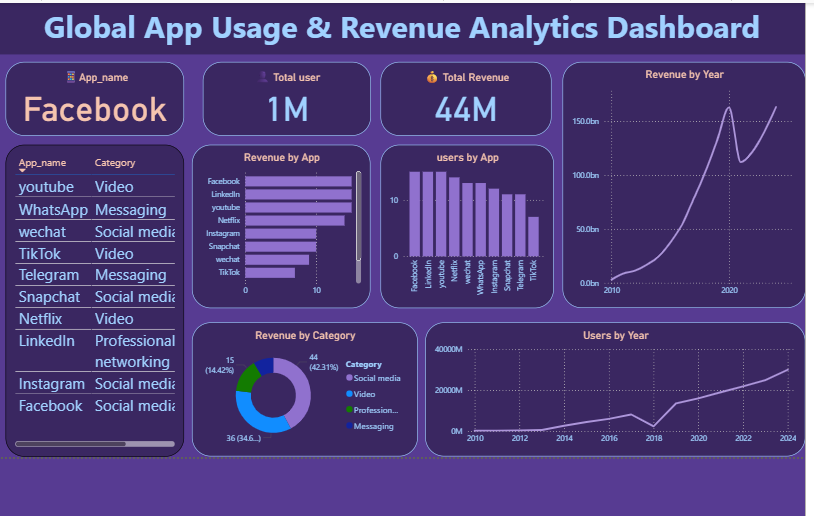

Layout of this report page (visuals, bound fields, positions):
{"tool":"powerbi","page":{"name":"App dashborad","canvas":[1280,720],"ordinal":0},"visuals":[{"type":"textbox","box":[0,0,1280,82],"z":0},{"type":"clusteredBarChart","title":"Revenue by App","fields":{"Category":["Sheet1.App_name"],"Y":["CountNonNull(Sheet1.Revenue)"]},"box":[306.3,225,283.8,259.6],"z":1000},{"type":"columnChart","title":"users by App","fields":{"Category":["Sheet1.App_name"],"Y":["CountNonNull(Sheet1.users)"]},"box":[605.8,225,275.2,259.6],"z":2000},{"type":"donutChart","title":"Revenue by Category","fields":{"Category":["Sheet1.Category"],"Y":["CountNonNull(Sheet1.Revenue)"]},"box":[306.3,507.1,358.3,212.9],"z":3000},{"type":"lineChart","title":"Users by Year","fields":{"Category":["Sheet1.Year"],"Y":["Sum(Sheet1.users)"]},"box":[676.7,507.1,604,212.9],"z":4000},{"type":"lineChart","title":"Revenue by Year","fields":{"Category":["Sheet1.Year"],"Y":["Sum(Sheet1.Revenue)"]},"box":[894.8,93.5,385.9,391.1],"z":5000},{"type":"card","title":"📱App_name","fields":{"Values":["Min(Sheet1.App_name)"]},"box":[10.4,93.5,283.8,117.7],"z":6000},{"type":"card","title":"👤 Total user ","fields":{"Values":["Min(Sheet1.users)"]},"box":[323.6,93.5,266.5,117.7],"z":7000},{"type":"card","title":"💰 Total Revenue ","fields":{"Values":["Min(Sheet1.Revenue)"]},"box":[605.8,93.5,271.7,117.7],"z":8000},{"type":"tableEx","fields":{"Values":["Sheet1.App_name","Sheet1.Category"]},"box":[10.4,225,283.8,495],"z":9000}]}

Visuals, with their boxes on the page's 1280x720 design canvas (x1, y1, x2, y2). These are canvas units, not pixel positions in the 814x516 screenshot, which may show the page scaled, cropped or inside an application window:
textbox: box(0, 0, 1280, 82)
"Revenue by App" clusteredBarChart: box(306, 225, 590, 485)
"users by App" columnChart: box(606, 225, 881, 485)
"Revenue by Category" donutChart: box(306, 507, 665, 720)
"Users by Year" lineChart: box(677, 507, 1281, 720)
"Revenue by Year" lineChart: box(895, 94, 1281, 485)
"📱App_name" card: box(10, 94, 294, 211)
"👤 Total user " card: box(324, 94, 590, 211)
"💰 Total Revenue " card: box(606, 94, 878, 211)
tableEx - Sheet1.App_name x Sheet1.Category: box(10, 225, 294, 720)
